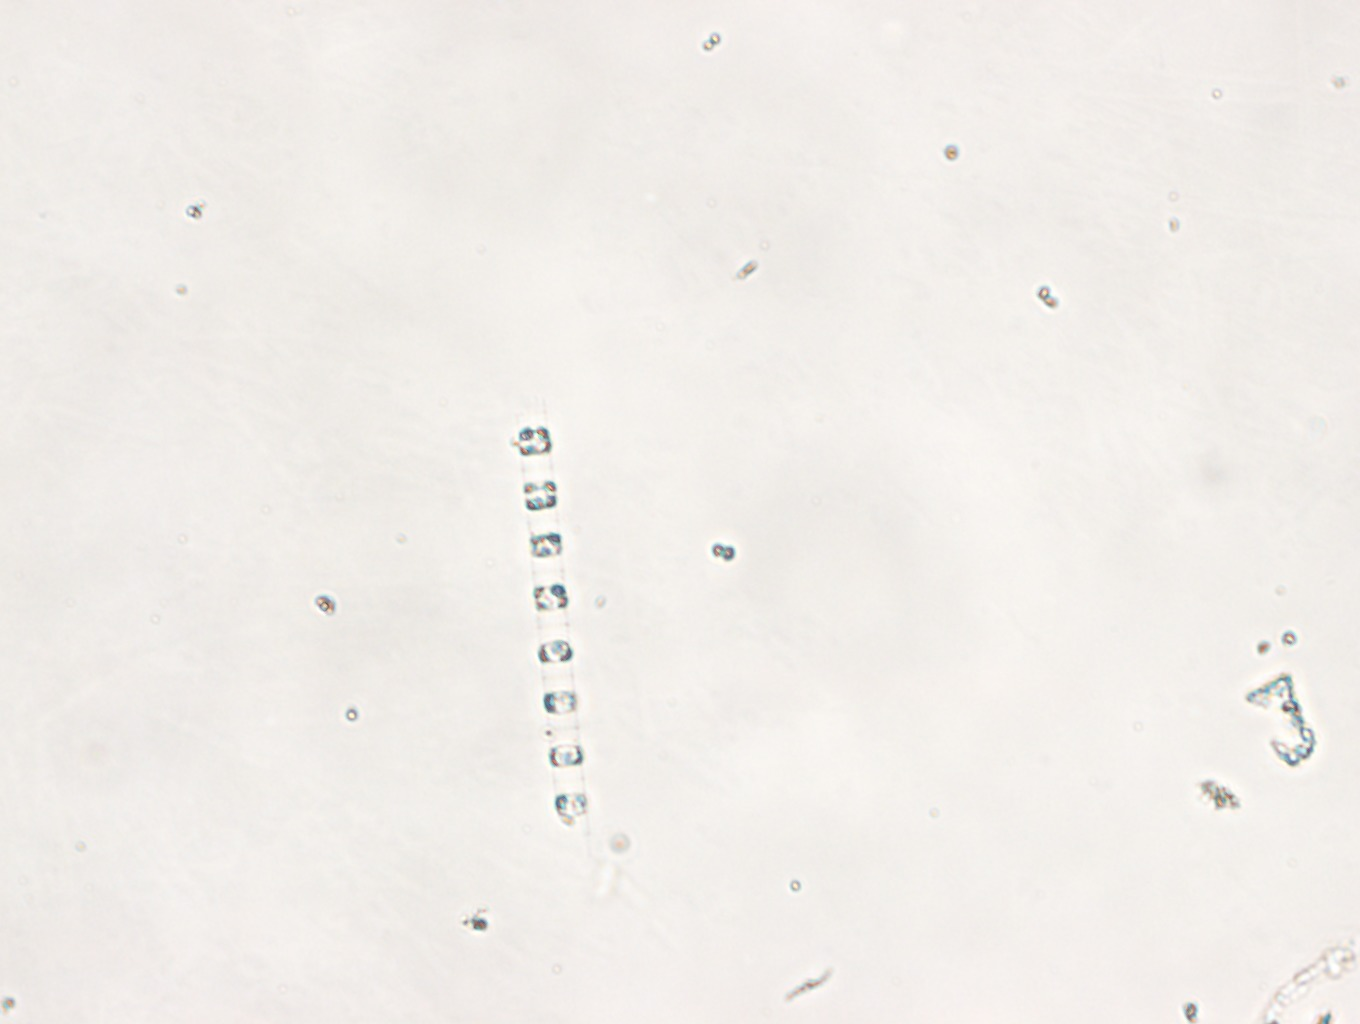skeletonema: (515, 397, 590, 826)
